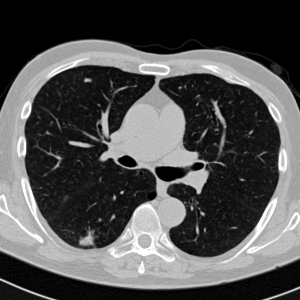nodule: (80, 232, 96, 248)
